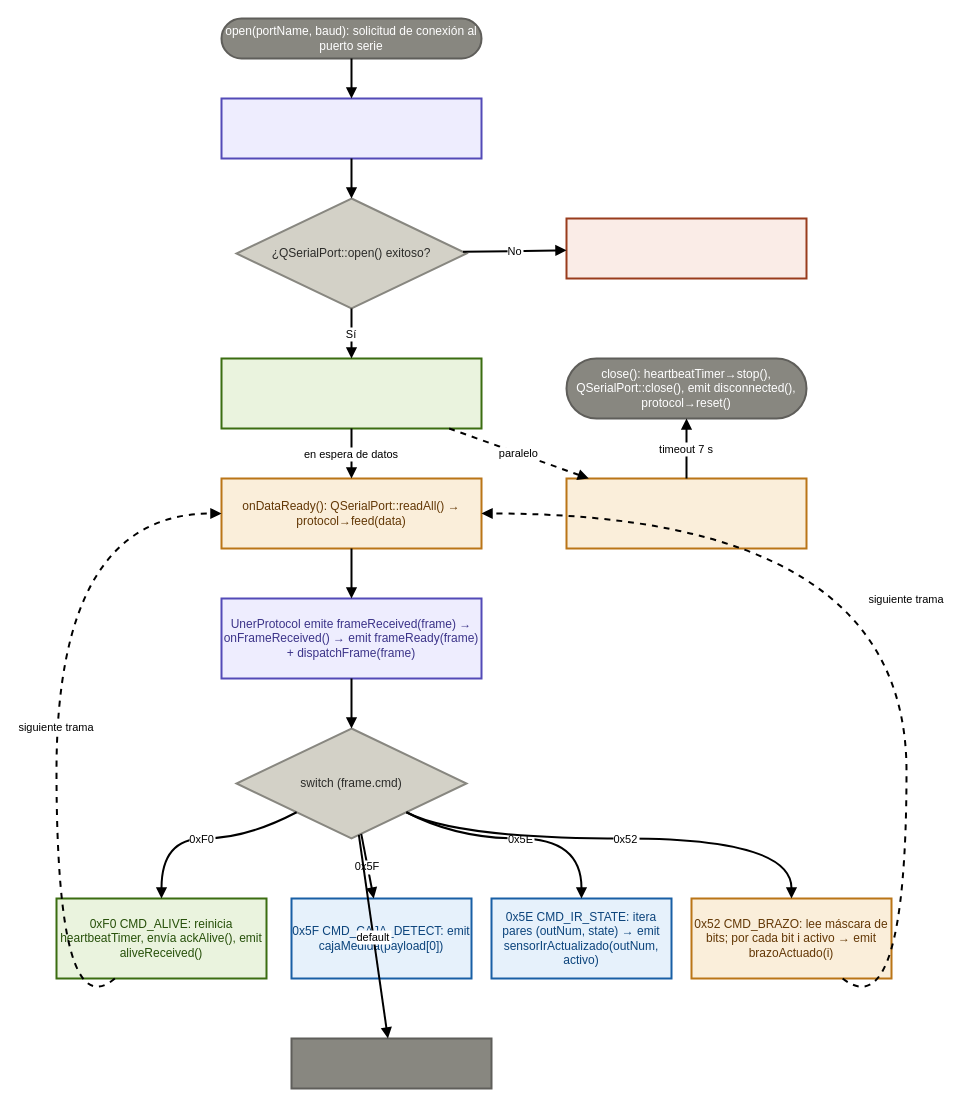
The diagram is 963 pixels wide and 1106 high, and some of its shapes have lost their labels. The shapes that lost their labels are listed below. From the top down, each one's box as (x1, y1, x2, y2) in pixels, then its label:
(220, 97, 482, 159): Configura QSerialPort: puerto, baudrate, 8N1, sin control de flujo
(565, 217, 807, 279): emit errorOccurred(msg): no se pudo abrir el puerto
(220, 357, 482, 429): protocol→reset(), heartbeatTimer→start(7s), emit connected(portName)
(565, 477, 807, 549): Watchdog: onHeartbeatTimeout() → emit connectionLost() si no llega 0xF0 en 7 s
(290, 1037, 492, 1089): default: qDebug — frame.cmd no manejado
